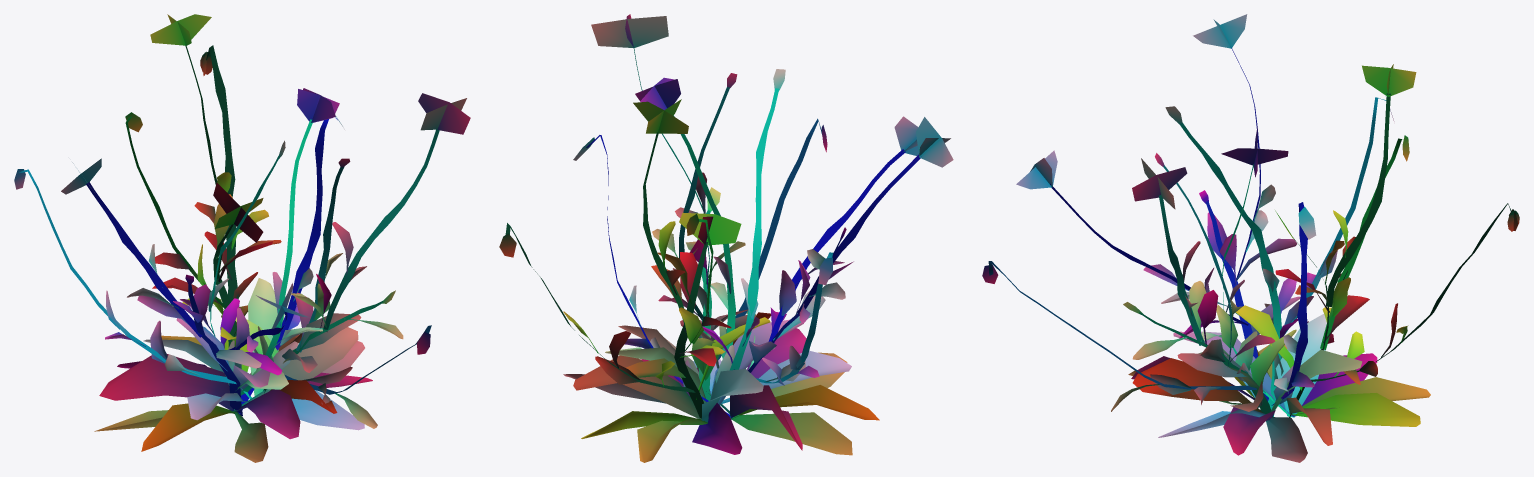
Rendered from Field_Poppy_vmcobd0ja_Low_vmcobd0ja_VarC_LOD1.fbx.
The picture shows the model from 3 angles, left to right: view 1: azimuth 30°, elevation 25°; view 2: azimuth 150°, elevation 25°; view 3: azimuth 270°, elevation 25°; orthographic projection. The views are drawn at different scales.
Visible parts, largest first — view 1: _e4ow_VarC_LOD3; view 2: _e4ow_VarC_LOD3; view 3: _e4ow_VarC_LOD3.
Part boxes in pixels (x1,y1,x2,y2): _e4ow_VarC_LOD3: (14, 14, 470, 462); _e4ow_VarC_LOD3: (499, 14, 953, 462); _e4ow_VarC_LOD3: (982, 14, 1519, 462).
Bounding box in the file's own units: 79.17 × 70.09 × 97.47.
